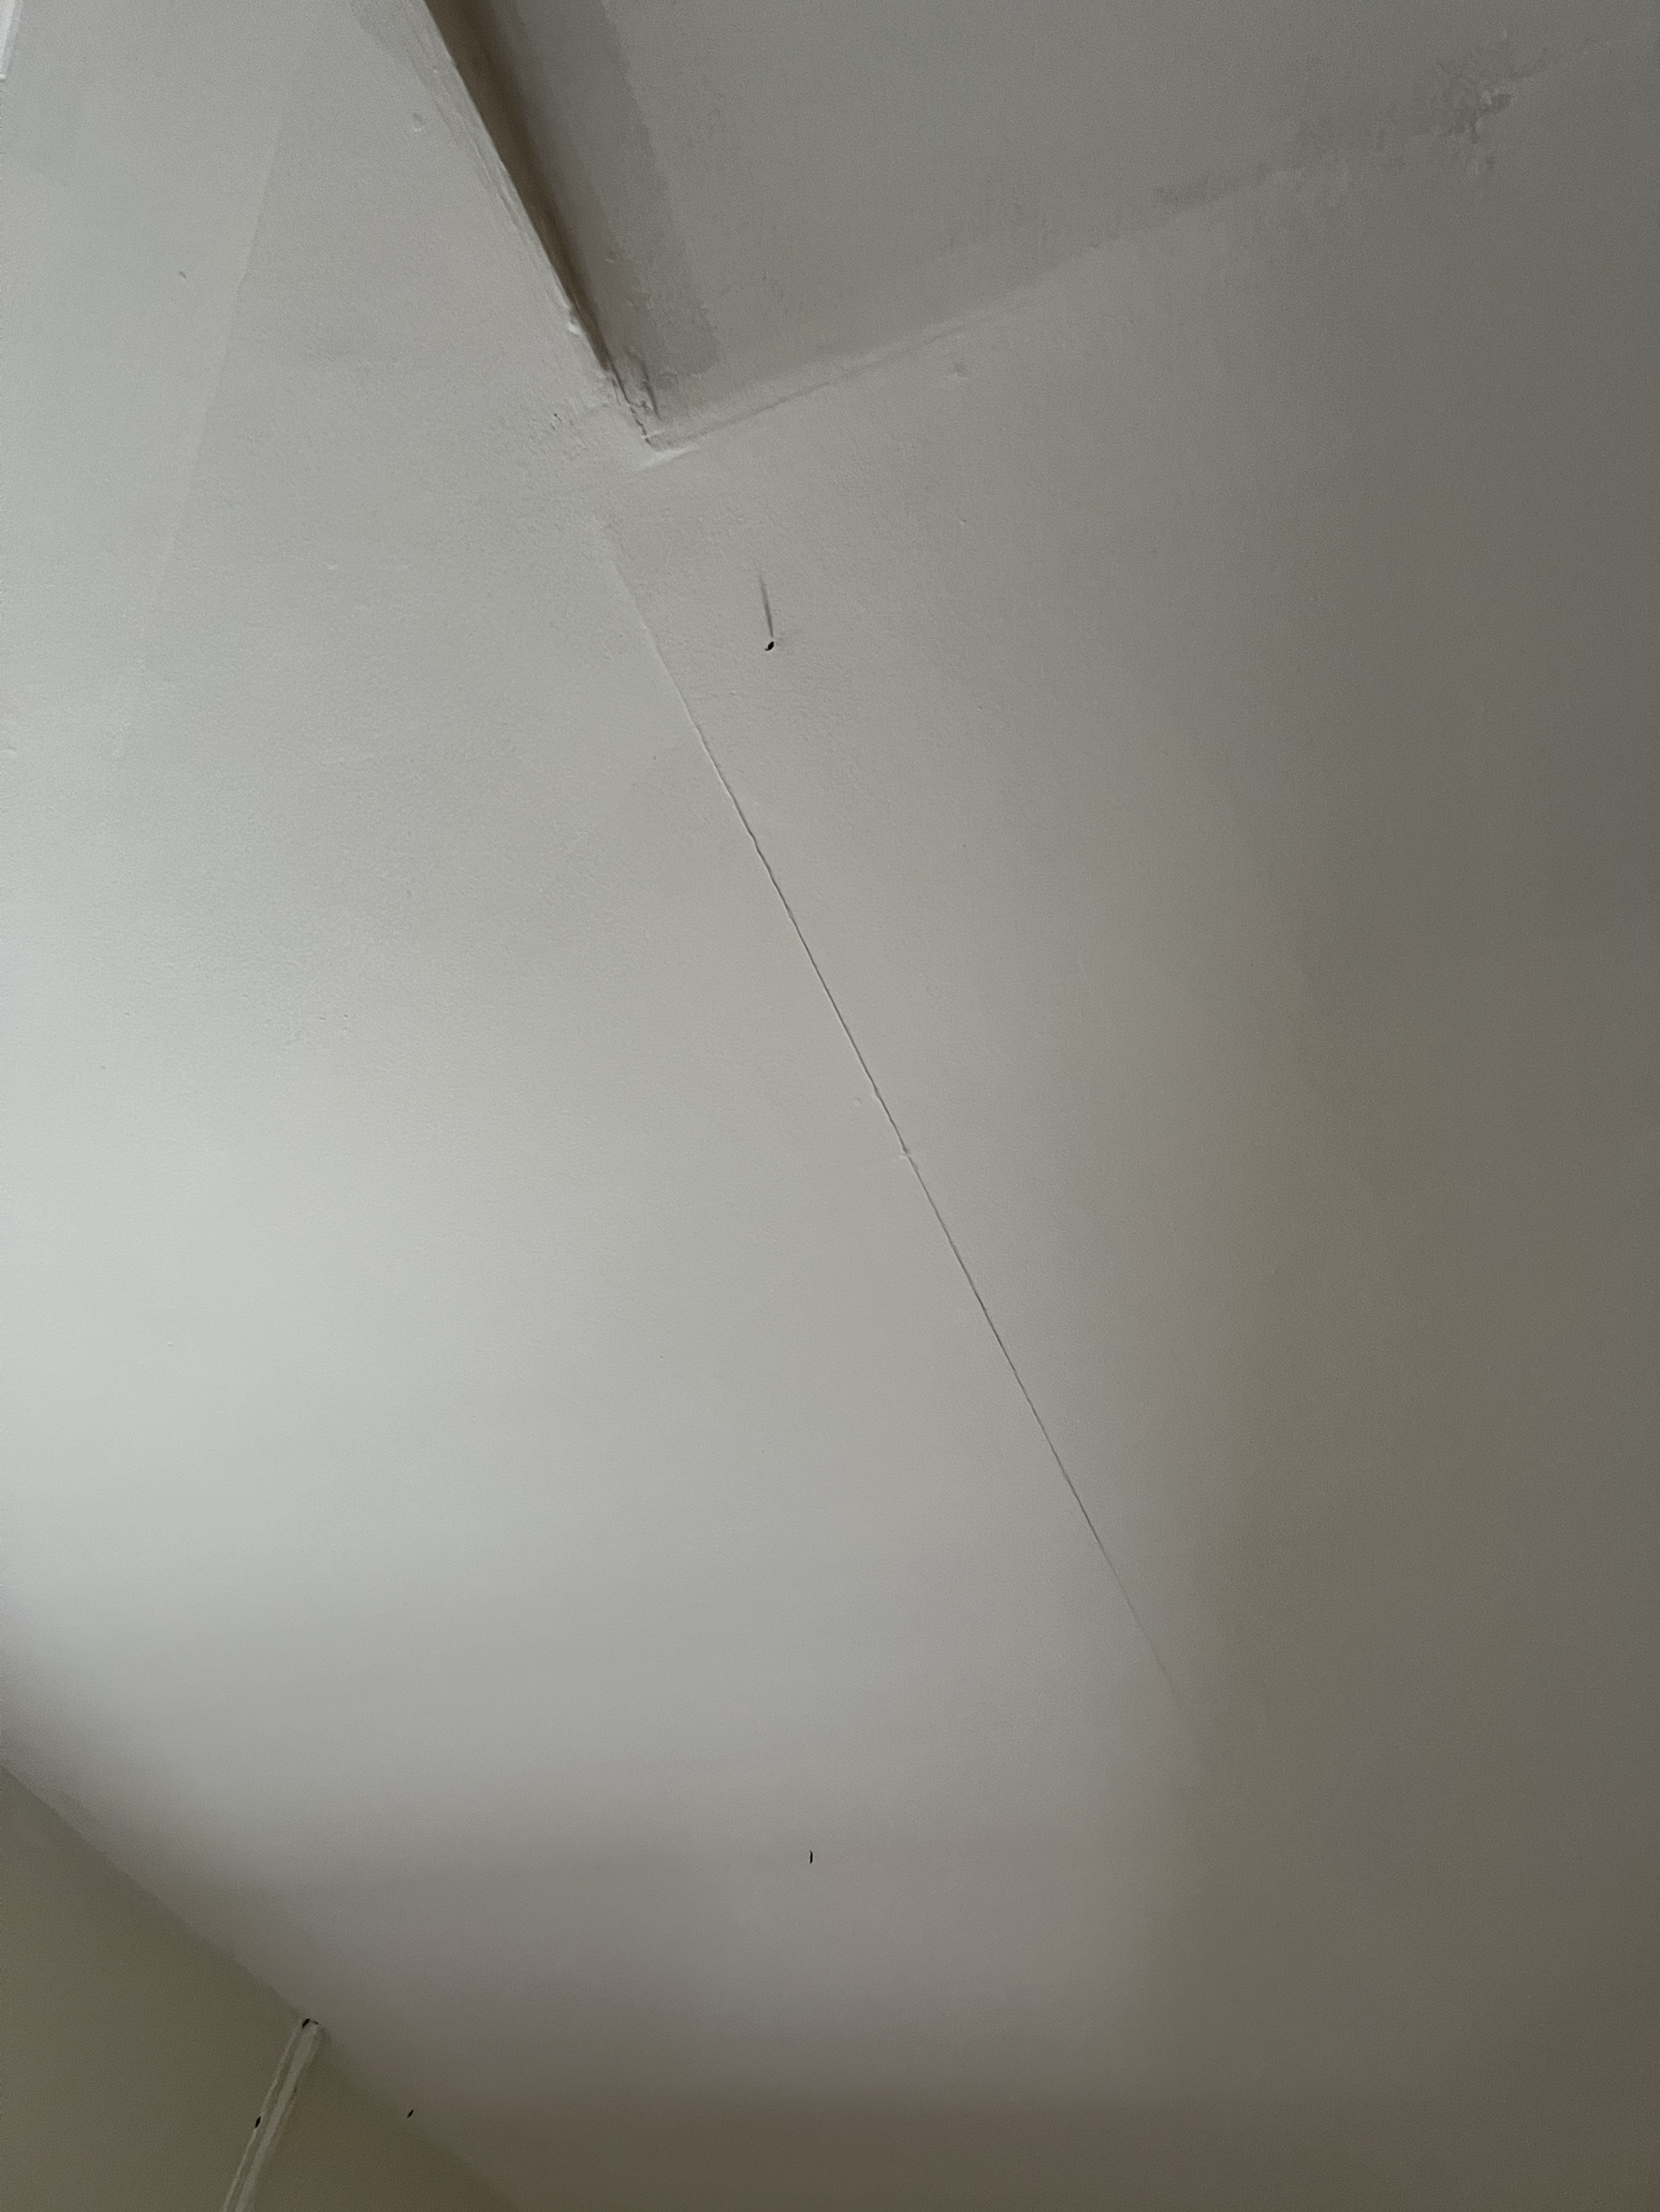Low: (558, 485, 1374, 1893)
